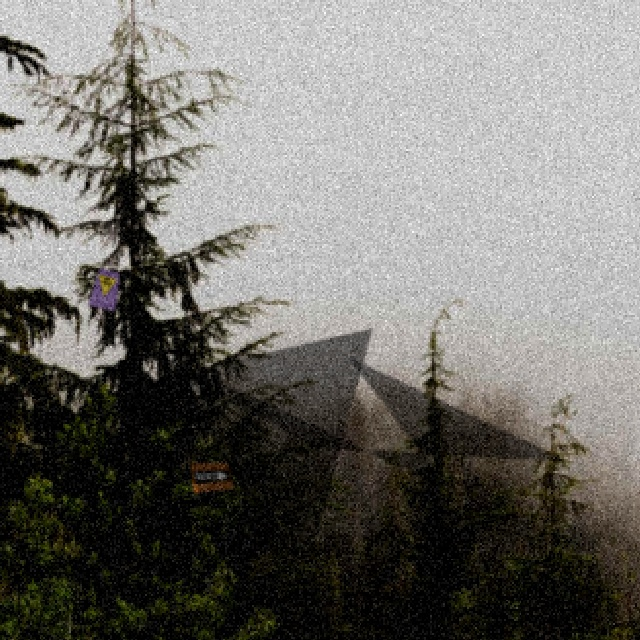NOT_YIELD: (90, 273, 119, 298)
ONE_WAY_ right: (192, 469, 229, 482)
